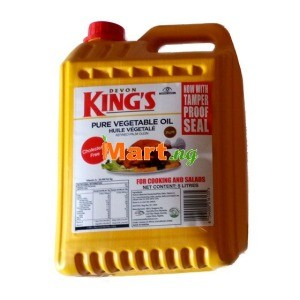vegetable oil_brain food: (65, 63, 212, 237)
